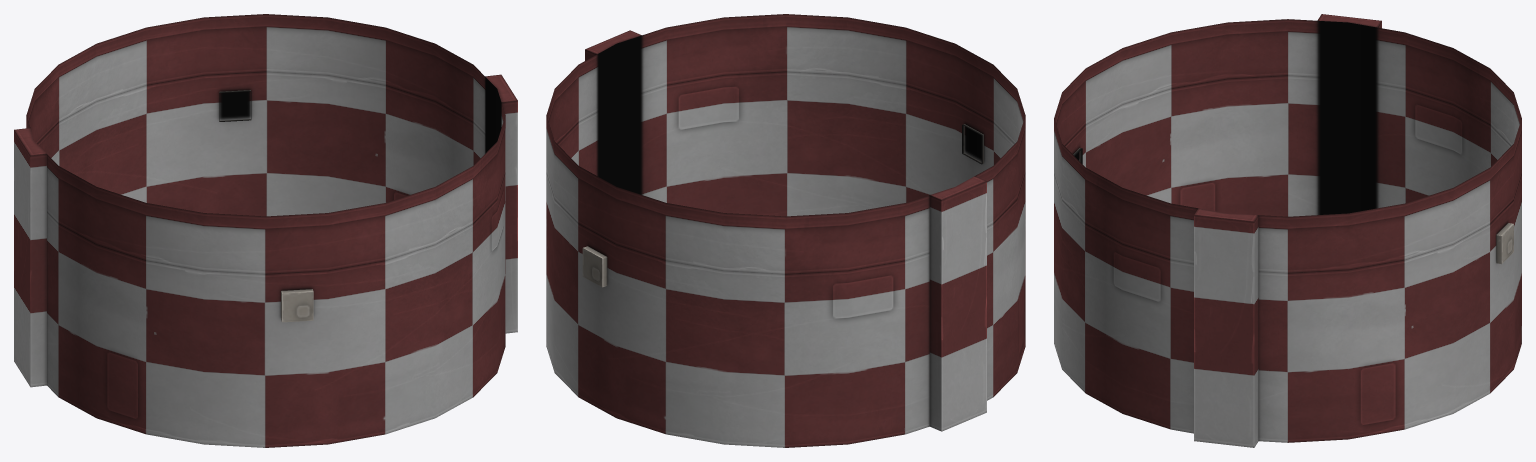
The model's file is fuel tank 1m alt.obj.
The picture shows the model from 3 angles, left to right: view 1: azimuth 30°, elevation 25°; view 2: azimuth 150°, elevation 25°; view 3: azimuth 270°, elevation 25°; orthographic projection. The views are drawn at different scales.
Parts seen in each view (by area): view 1: 1_alt; view 2: 1_alt; view 3: 1_alt.
Boxes of the visible parts, x1,y1,x2,y2 form: 1_alt: (14, 14, 517, 447); 1_alt: (546, 14, 1025, 447); 1_alt: (1054, 14, 1521, 447).
Bounding box in the file's own units: 1.97 × 1 × 1.88.
1 material, 1 textured.
